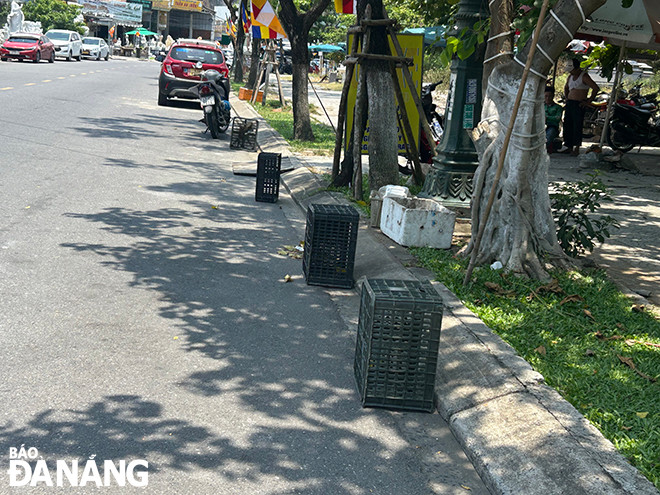ROAD_OBSTACLE: (333, 252, 463, 413), (285, 199, 368, 306), (358, 179, 470, 251), (250, 140, 287, 202)
